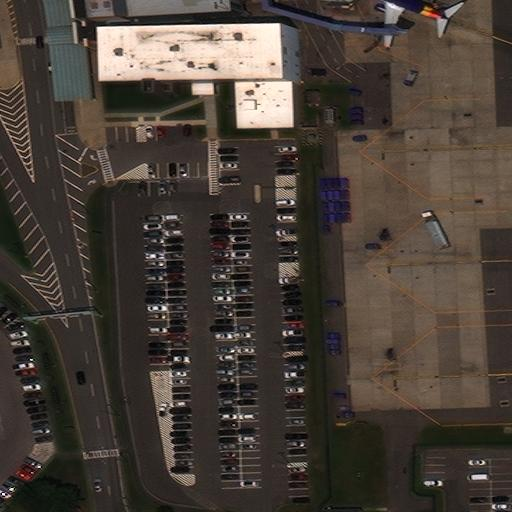Medium Civil Transport: (357, 0, 449, 46)
